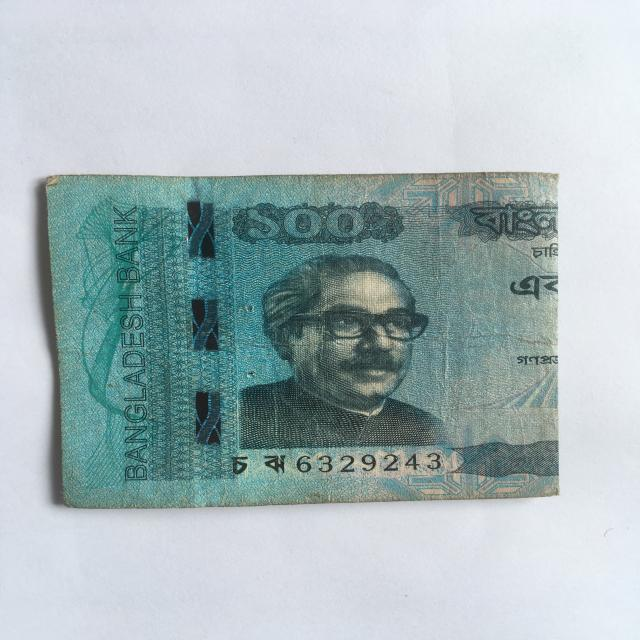Taka: (44, 159, 572, 516)
